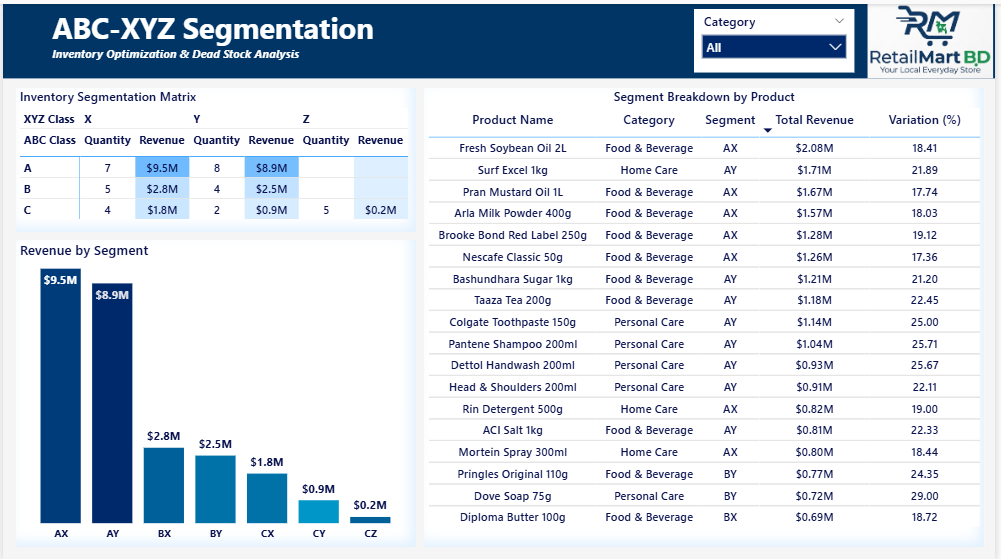

This screenshot's page, from the dashboard's own definition file:
{"tool":"powerbi","page":{"name":"ABC-XYZ Segmentation","canvas":[1280,720],"ordinal":1},"visuals":[{"type":"textbox","box":[0,0,1279.8,96.4],"z":0},{"type":"image","box":[1114,0,165.8,96.4],"z":1000},{"type":"pivotTable","title":"Inventory Segmentation Matrix","fields":{"Rows":["vw_abc_xyz_matrix.abc_category"],"Columns":["vw_abc_xyz_matrix.xyz_category"],"Values":["_Measures.Segment Product Count","_Measures.Segment Revenue"]},"box":[16.5,108.7,516.1,185.8],"z":2000},{"type":"clusteredColumnChart","title":"Revenue by Segment","fields":{"Y":["_Measures.Segment Revenue"],"Category":["vw_abc_xyz_matrix.combined_segment"]},"box":[16.5,304.2,516.1,396.4],"z":3000},{"type":"tableEx","title":"Segment Breakdown by Product","fields":{"Values":["dim_product.product_name","dim_product.category","vw_abc_xyz_matrix.combined_segment","Sum(vw_abc_xyz_matrix.total_revenue)","Sum(vw_abc_xyz_matrix.coefficient_of_variation)"]},"box":[543.2,108.6,723.2,592.5],"z":4000},{"type":"slicer","fields":{"Values":["dim_product.category"]},"box":[891.5,7.1,206.9,82.2],"z":5000}]}

Visuals, with their boxes in screenshot pixels (x1, y1, x2, y2), scaled from the page's 1280x720 canvas onto the 1001x559 screenshot:
textbox: <bbox>0, 0, 1000, 75</bbox>
image: <bbox>871, 0, 1000, 75</bbox>
"Inventory Segmentation Matrix" pivotTable: <bbox>13, 84, 417, 229</bbox>
"Revenue by Segment" clusteredColumnChart: <bbox>13, 236, 417, 544</bbox>
"Segment Breakdown by Product" tableEx: <bbox>425, 84, 990, 544</bbox>
slicer - dim_product.category: <bbox>697, 6, 859, 69</bbox>
